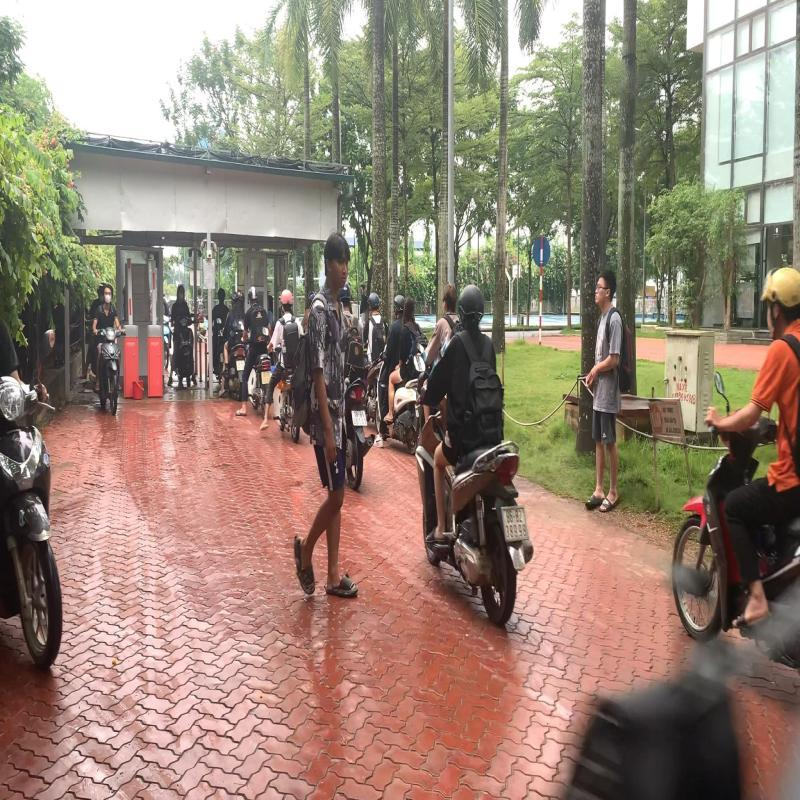nohelmet: (441, 282, 458, 315), (403, 296, 416, 318)
